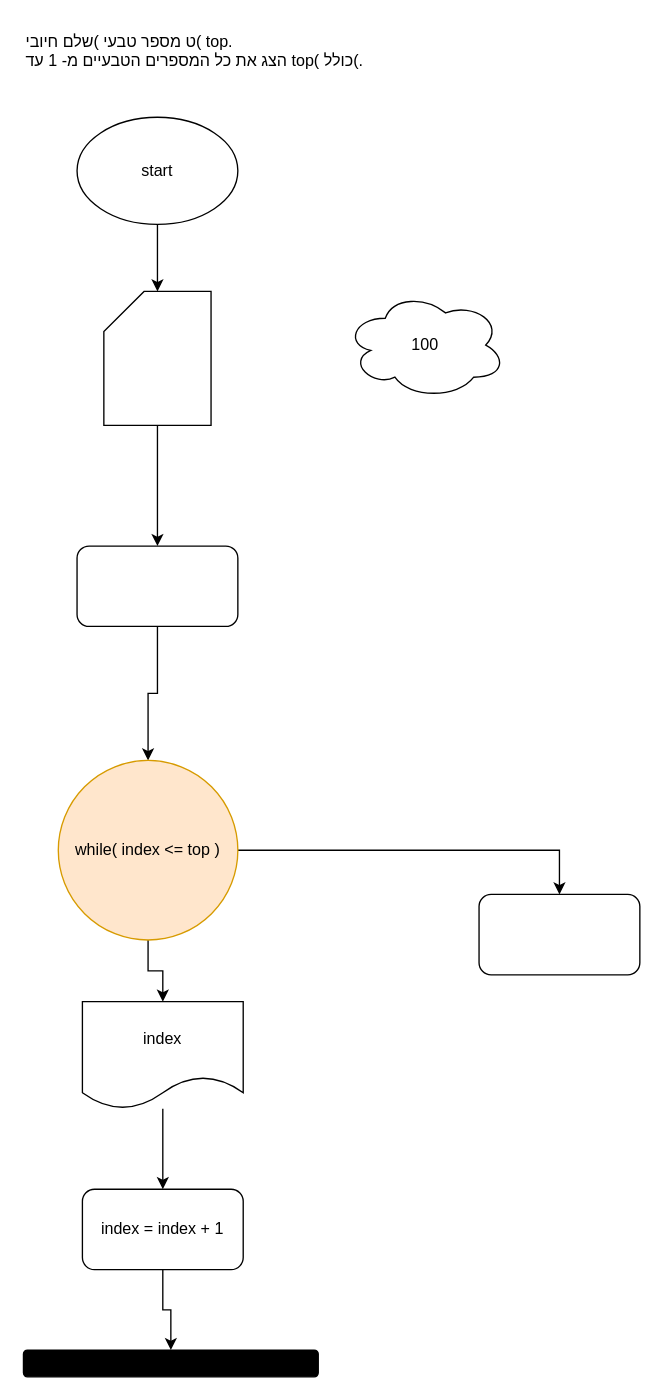
Image size: 663x1400. Some labels were removed from this diagram. The box of each missing label's shape, as (x1, y1, x2, y2) in pixels:
index = 1: (76, 545, 238, 626)
stop: (478, 893, 640, 975)
top: (103, 290, 211, 425)
